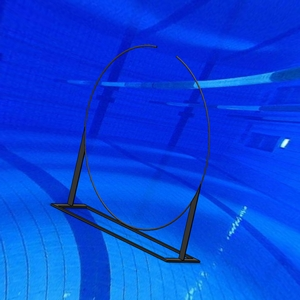circle: (50, 43, 212, 265)
